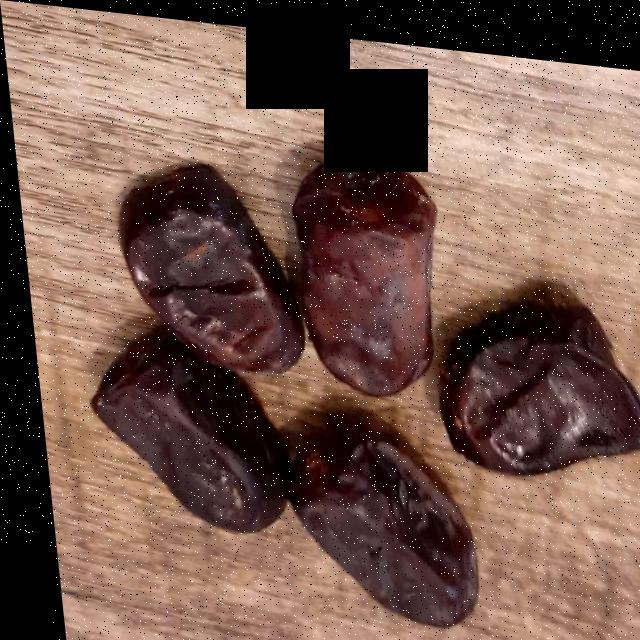dates: (67, 155, 640, 628)
